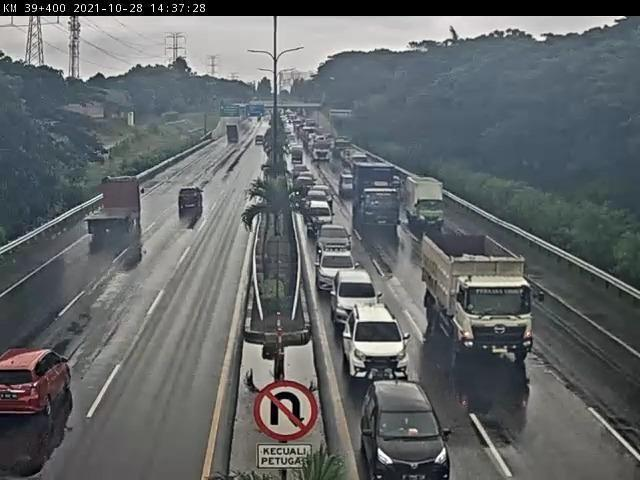car: (359, 379, 455, 480), (1, 347, 73, 421), (341, 302, 407, 381), (333, 268, 381, 328), (313, 248, 359, 295), (317, 222, 355, 257), (305, 198, 334, 234), (178, 189, 206, 213)
truck: (419, 232, 537, 355), (83, 178, 147, 241), (349, 160, 397, 228), (407, 177, 447, 230)
